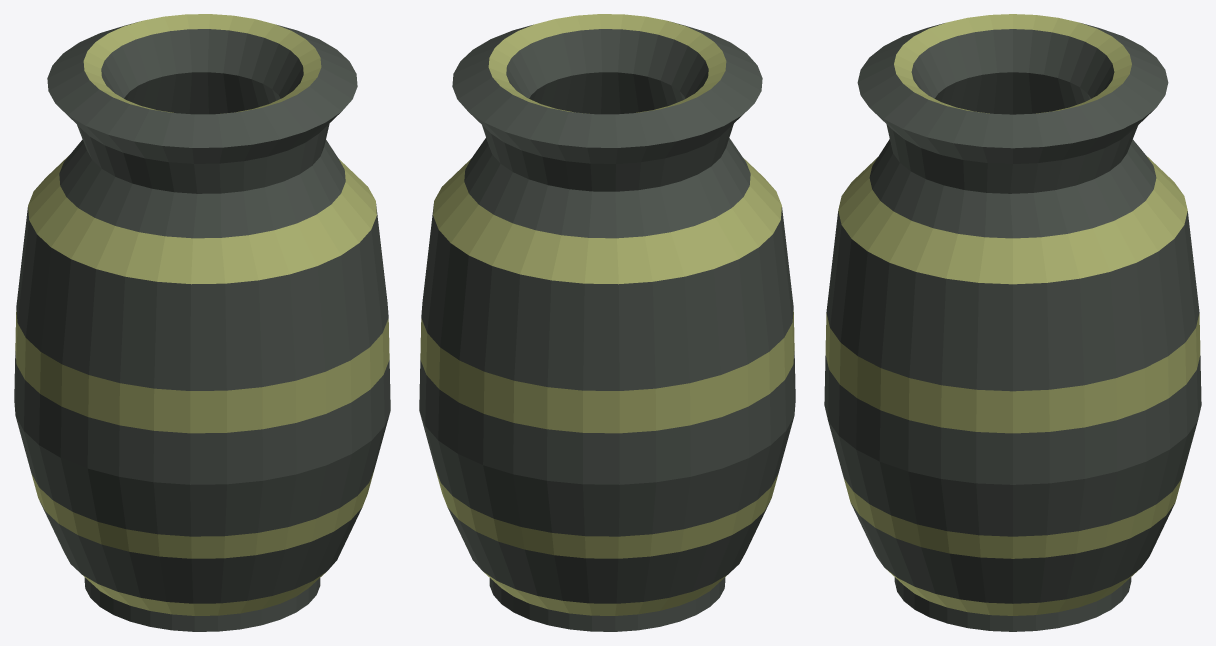
File: pot2.fbx
3 renders of one model, left to right at view 1: azimuth 30°, elevation 25°; view 2: azimuth 150°, elevation 25°; view 3: azimuth 270°, elevation 25°, orthographic.
Parts seen in each view (by area): view 1: Pot2; view 2: Pot2; view 3: Pot2.
Part boxes in pixels (x1=…): Pot2: x1=14, y1=14, x2=390, y2=631; Pot2: x1=419, y1=14, x2=795, y2=631; Pot2: x1=824, y1=14, x2=1201, y2=631.
Size of the model in its own units: 319 by 483 by 319.
